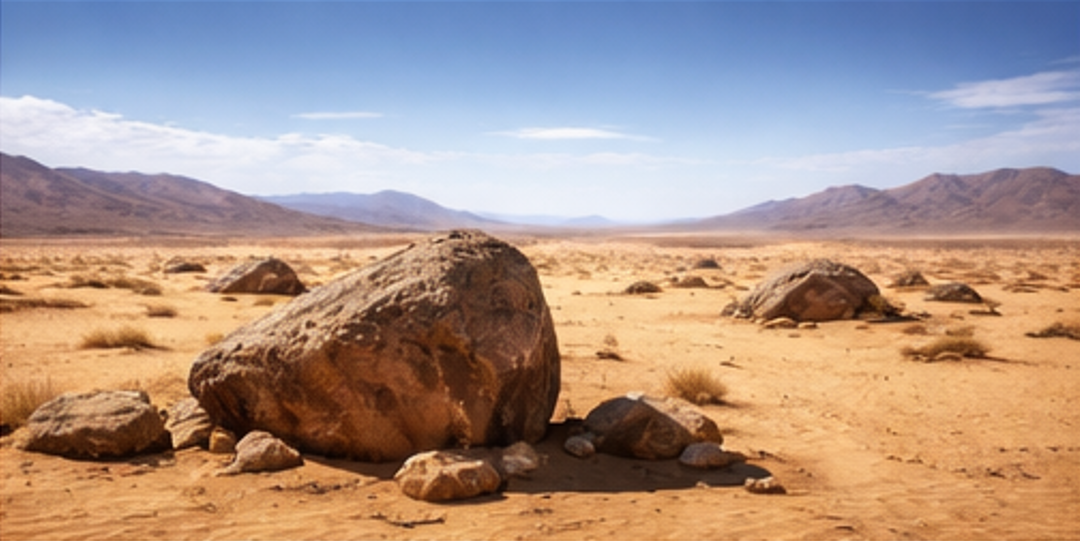rocks: (188, 231, 558, 460), (725, 258, 882, 321), (20, 391, 170, 455), (583, 395, 722, 456), (393, 450, 502, 499), (205, 257, 305, 295), (217, 430, 302, 474), (165, 398, 212, 448), (678, 442, 744, 467), (924, 283, 982, 301), (624, 281, 661, 293), (885, 306, 887, 309)
